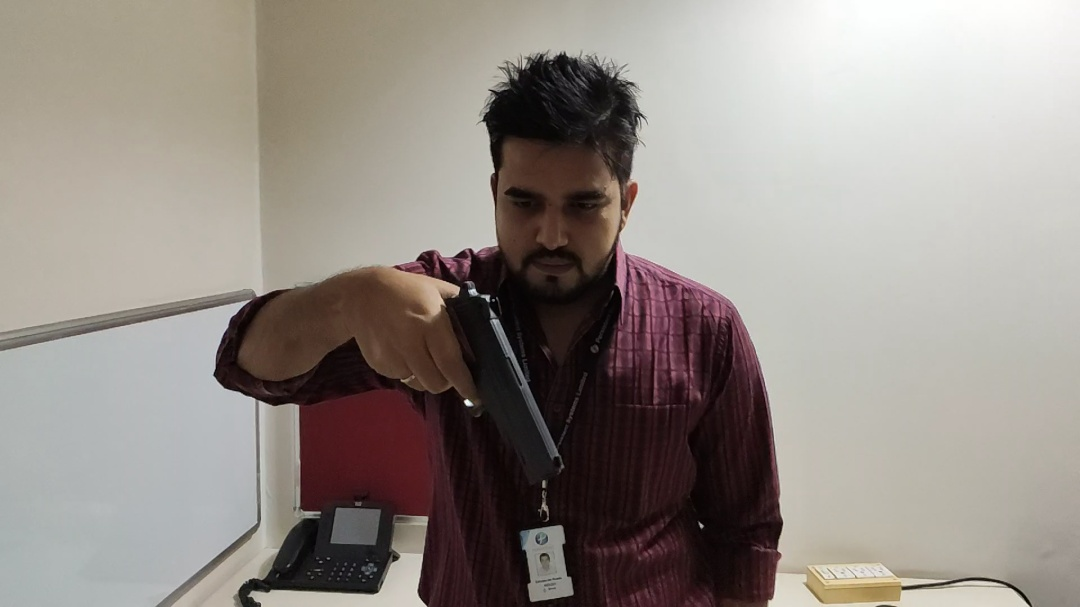gun: (407, 276, 571, 486)
